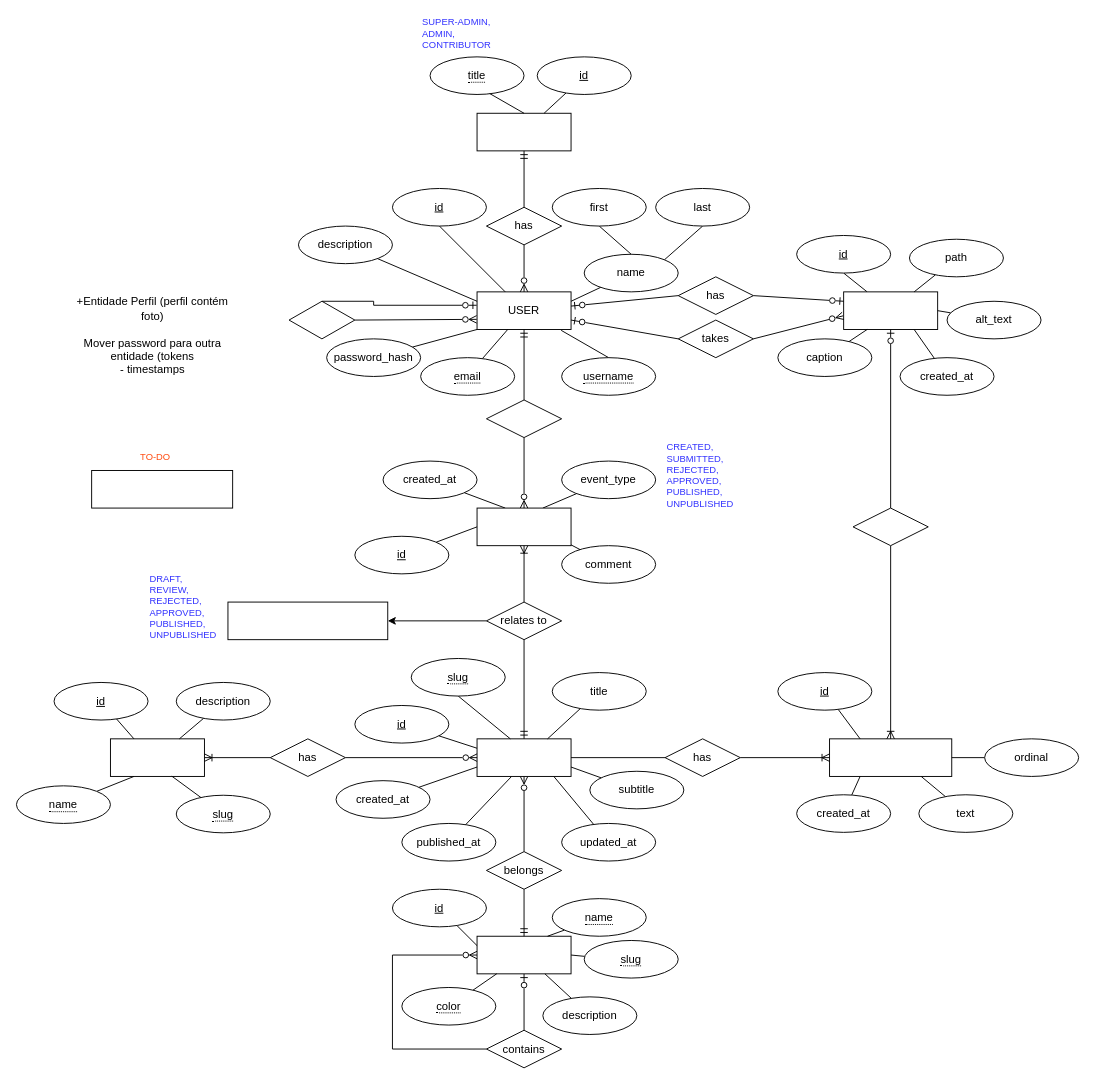
Image size: 1095x1084. Some labels were removed from this diagram. The shapes that lost their labels are listed below. From the top down, each one's centre as x and y in pixels, then its label:
point (523, 131): ROLE
point (321, 319): creates
point (890, 310): PICTURE
point (524, 418): performs
point (162, 489): ARTICLE_COMMENTS
point (523, 526): EVENT
point (307, 620): ARTICLE_STATUS
point (157, 757): TAG
point (523, 757): ARTICLE
point (890, 757): ARTICLE_CONTENT
point (523, 954): CATEGORY
